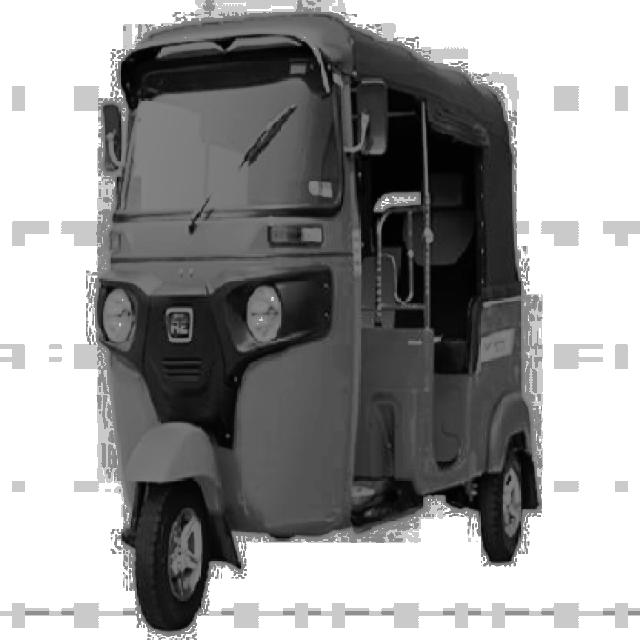Auto-Rickshaw: (96, 13, 540, 634)
